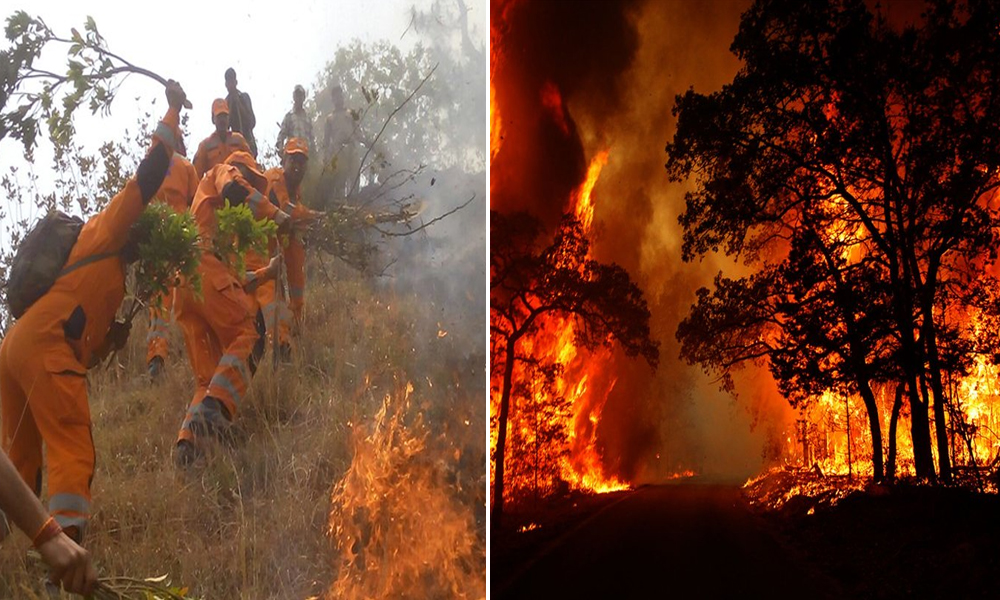fire: (336, 413, 479, 598), (514, 337, 621, 492), (824, 390, 999, 474)
smoke: (491, 4, 599, 216)
